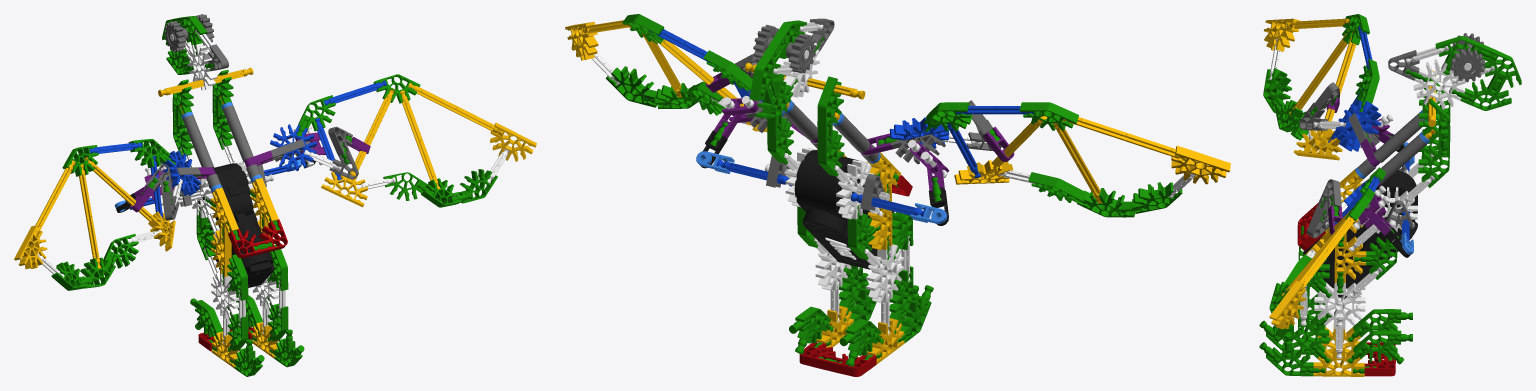
3 views of the same model, side by side, from view 1: azimuth 30°, elevation 25°; view 2: azimuth 150°, elevation 25°; view 3: azimuth 270°, elevation 25° (orthographic). The views are drawn at different scales.
Visible parts, largest first — view 1: P6_L23.005; view 2: P6_L23.005; view 3: P6_L23.005.
Boxes of the visible parts, x1,y1,x2,y2 form: P6_L23.005: (14, 14, 536, 376); P6_L23.005: (565, 14, 1230, 376); P6_L23.005: (1259, 14, 1521, 376).
Bounding box in the file's own units: 5.19 × 2.81 × 2.04.
